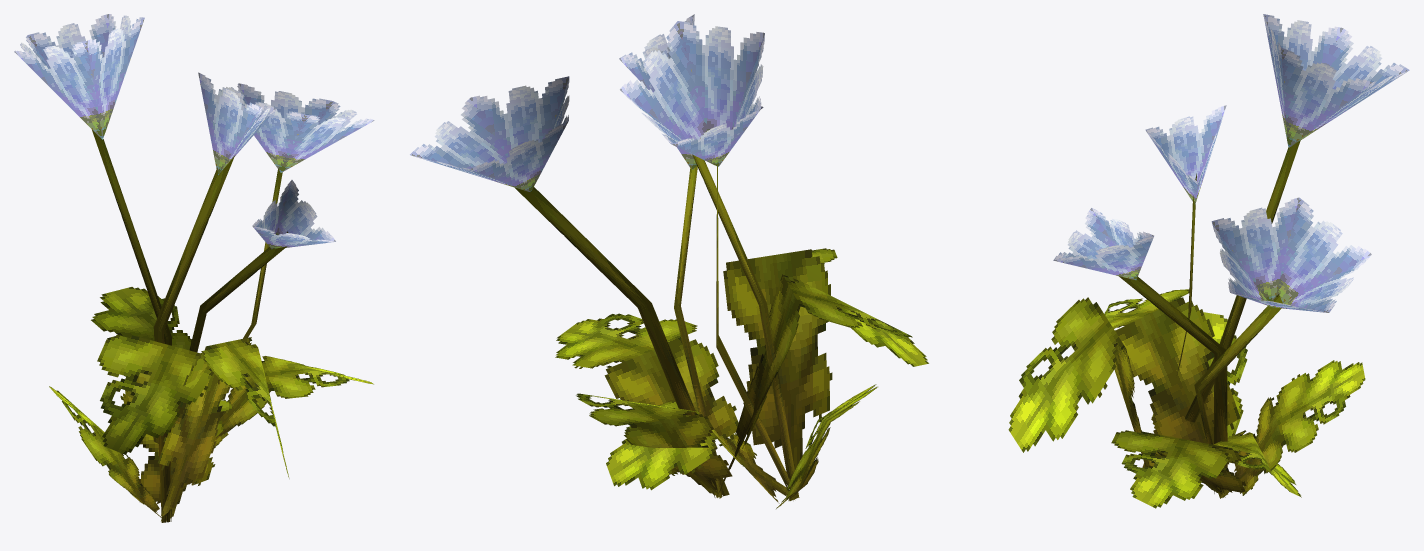
Rendered from bush_peacebloom01.obj.
3 views of the same model, side by side, from view 1: azimuth 30°, elevation 25°; view 2: azimuth 150°, elevation 25°; view 3: azimuth 270°, elevation 25° (orthographic). The views are drawn at different scales.
Visible parts, largest first — view 1: BUSH_PEACEBLOOM010, BUSH_PEACEBLOOM011; view 2: BUSH_PEACEBLOOM010, BUSH_PEACEBLOOM011; view 3: BUSH_PEACEBLOOM010, BUSH_PEACEBLOOM011.
Part boxes in pixels (x1,y1,x2,y2): BUSH_PEACEBLOOM010: (49, 130, 373, 522); BUSH_PEACEBLOOM011: (14, 14, 374, 249); BUSH_PEACEBLOOM010: (515, 154, 928, 508); BUSH_PEACEBLOOM011: (410, 14, 764, 191); BUSH_PEACEBLOOM010: (1008, 140, 1365, 508); BUSH_PEACEBLOOM011: (1053, 14, 1409, 312).
Size of the model in its own units: 2.44 by 2.97 by 2.33.
Materials: 2 (2 with a texture image).
